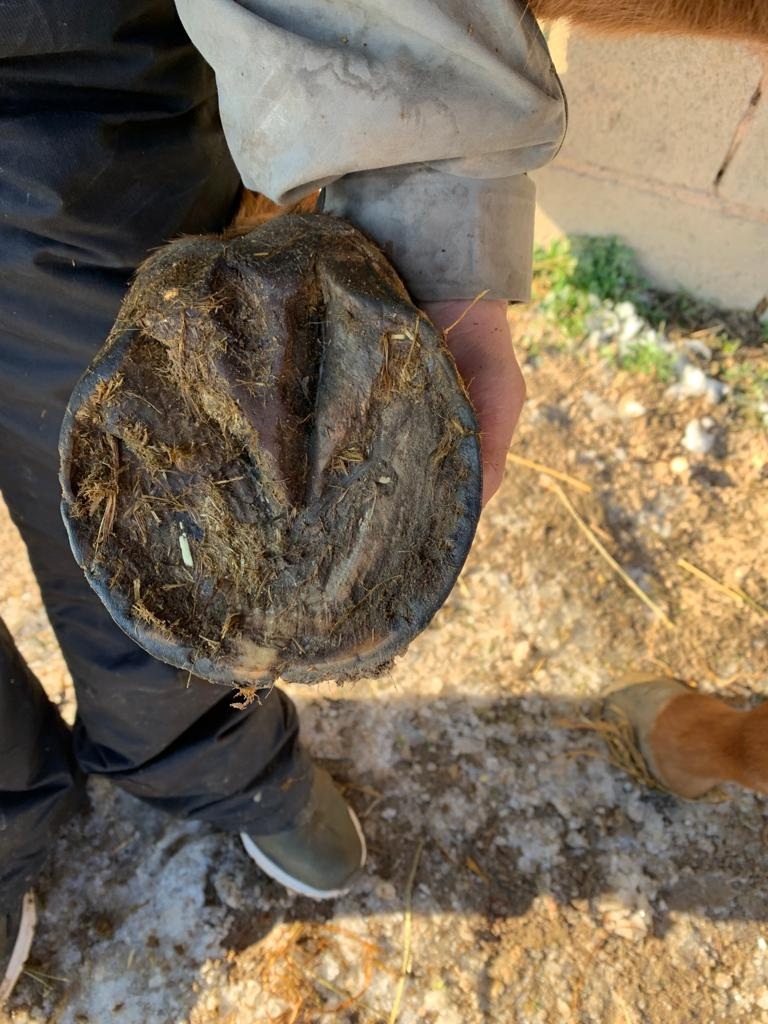horsesole: (59, 261, 483, 687)
